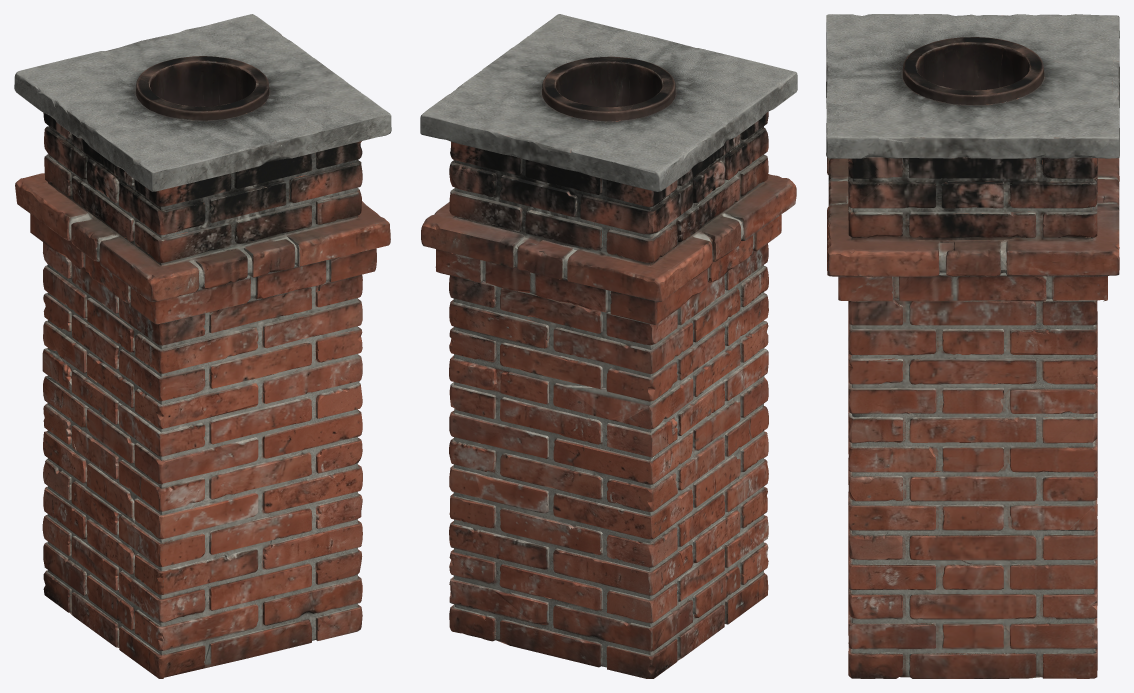
The model's file is familok_roof_chimney.glb.
The picture shows the model from 3 angles, left to right: view 1: azimuth 30°, elevation 25°; view 2: azimuth 150°, elevation 25°; view 3: azimuth 270°, elevation 25°; orthographic projection. The views are drawn at different scales.
Bounding box in the file's own units: 0.9047 × 1.9 × 0.9039.
Materials: 1 (1 with a texture image).
